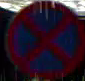No waiting: (5, 0, 82, 80)
